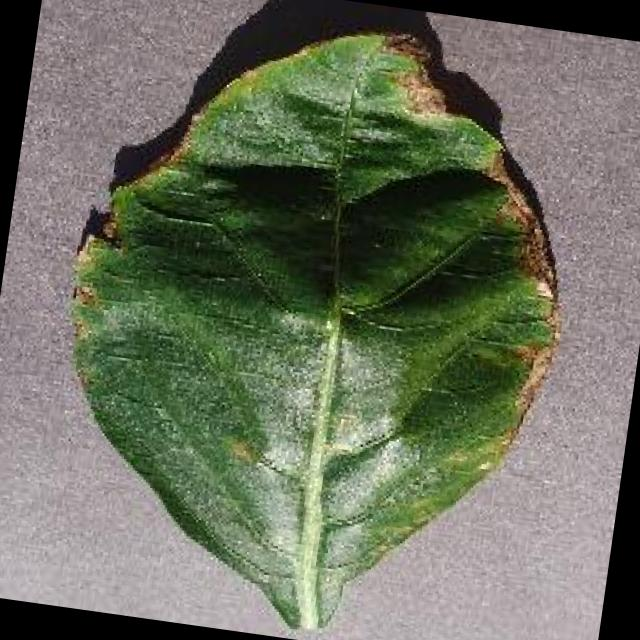Chilli_Bacterial_Spot: (24, 0, 602, 640), (207, 298, 428, 506), (57, 198, 126, 346), (368, 26, 458, 120), (387, 62, 453, 120), (218, 430, 266, 471), (94, 208, 124, 246), (66, 280, 98, 311), (527, 274, 558, 305)
